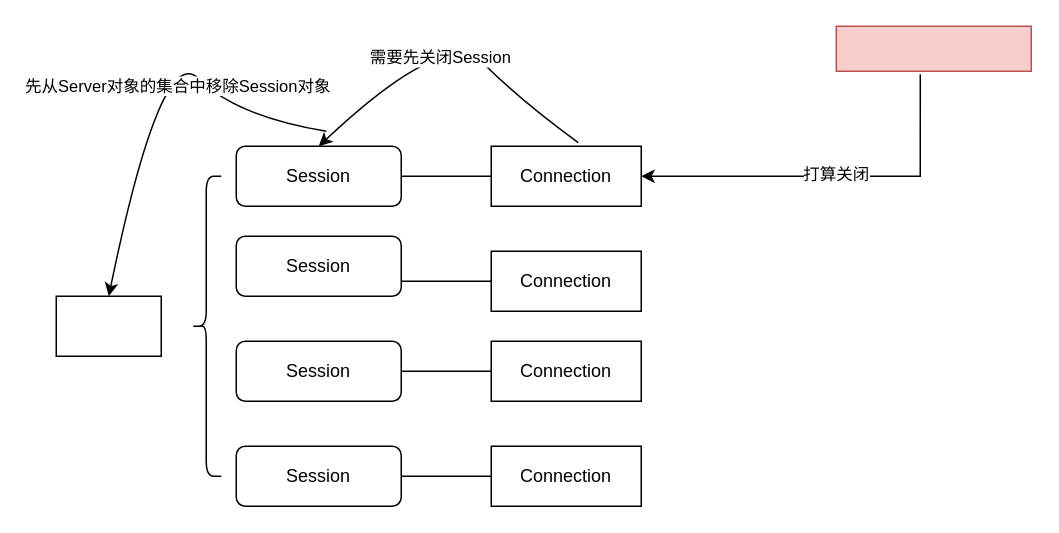
Image size: 1059x533. Some labels were removed from this diagram. The box of each missing label's shape, as (x1, y1, x2, y2) in pixels:
Server: (55, 295, 161, 356)
对端关闭连接: (835, 25, 1031, 71)
